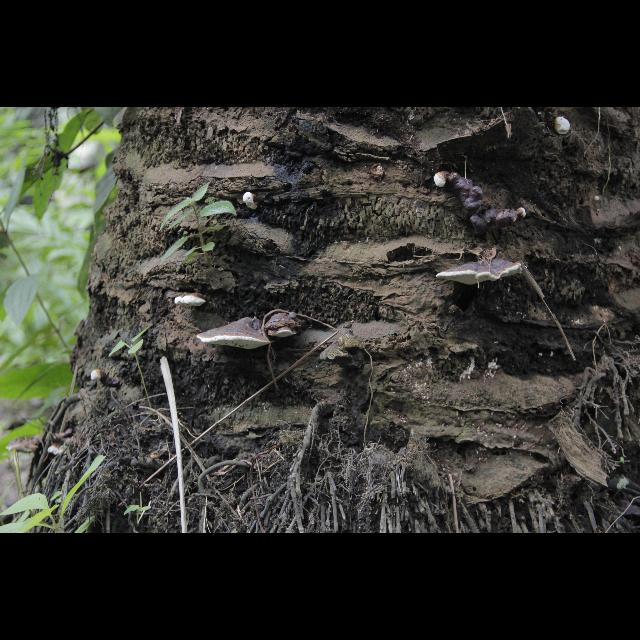ganoderma: (450, 174, 518, 238), (197, 318, 273, 352), (436, 259, 524, 287), (264, 313, 308, 340), (6, 437, 42, 456), (176, 294, 209, 309), (49, 442, 66, 456)
primordium: (243, 193, 261, 212), (555, 118, 572, 137), (434, 172, 450, 189), (91, 371, 109, 384), (519, 208, 528, 220), (595, 196, 601, 202)
